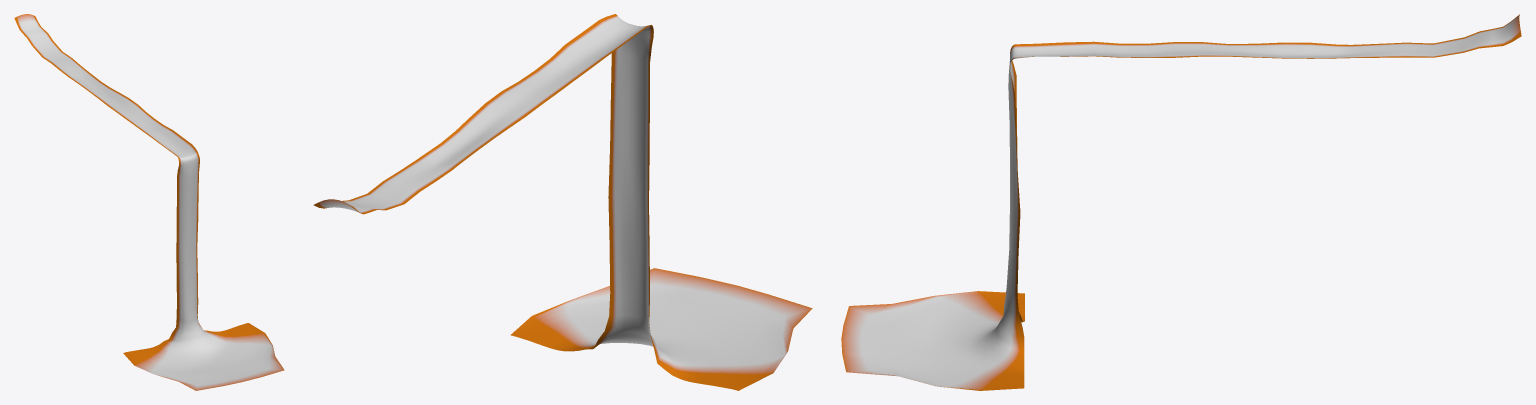
The model's file is Lava.fbx.
3 views of the same model, side by side, from view 1: azimuth 30°, elevation 25°; view 2: azimuth 150°, elevation 25°; view 3: azimuth 270°, elevation 25° (orthographic). The views are drawn at different scales.
Parts seen in each view (by area): view 1: Lava; view 2: Lava; view 3: Lava.
Boxes of the visible parts, x1=… form: Lava: x1=14, y1=14, x2=284, y2=390; Lava: x1=313, y1=14, x2=812, y2=390; Lava: x1=841, y1=14, x2=1521, y2=390.
Bounding box in the file's own units: 1909 × 2936 × 5513.
